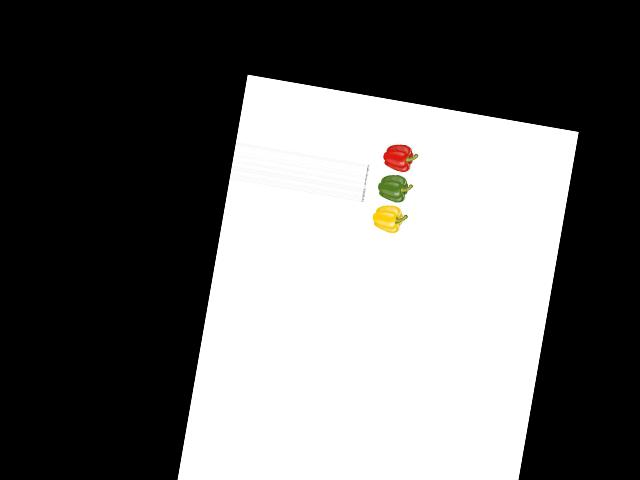bell_pepper: (367, 200, 408, 236)
